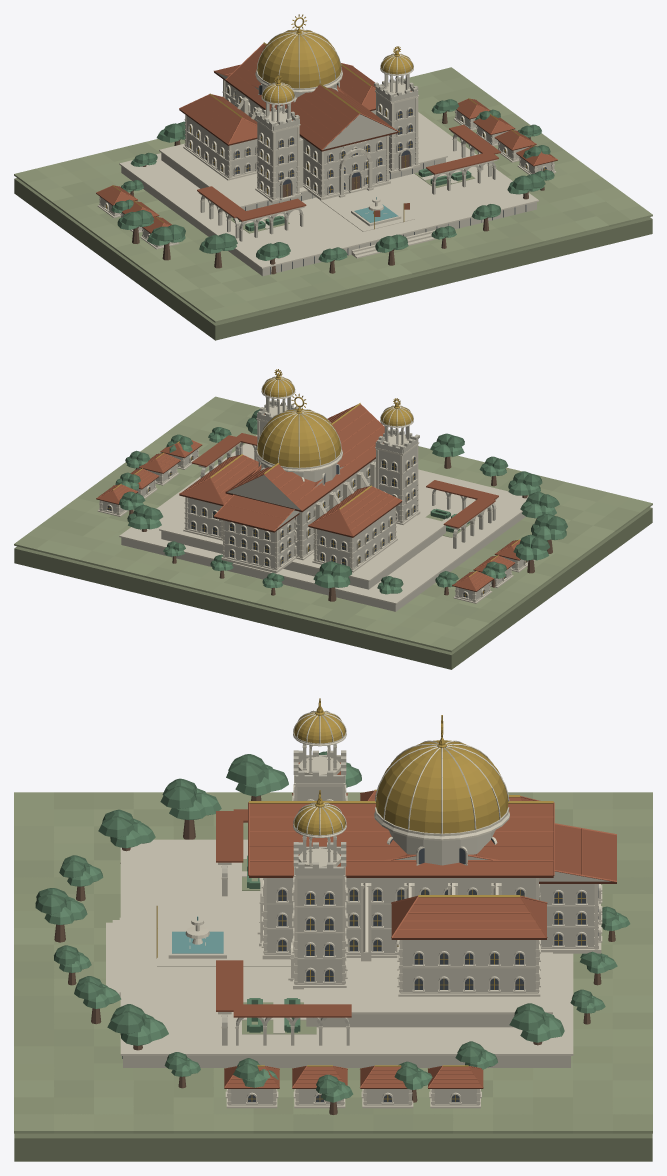
The model's file is basilica.glb.
3 views of the same model, one above another, from view 1: azimuth 30°, elevation 25°; view 2: azimuth 150°, elevation 25°; view 3: azimuth 270°, elevation 25° (orthographic). The views are drawn at different scales.
Parts seen in each view (by area): view 1: site, plinth, nave-roof, landscape, nave, dome-roof, west-campanile, east-campanile, cloisters, landscape-roof, cloisters-roof, east-campanile-roof (+2 smaller); view 2: site, plinth, nave-roof, landscape, nave, dome-roof, west-campanile, landscape-roof, cloisters-roof, cloisters, west-campanile-roof, east-campanile-roof (+2 smaller); view 3: site, plinth, nave-roof, landscape, nave, dome-roof, east-campanile, cloisters-roof, landscape-roof, cloisters, east-campanile-roof, west-campanile-roof (+3 smaller).
Part boxes in pixels (x1,y1,x2,y2): site: (14, 67, 652, 340); plinth: (119, 112, 538, 276); nave-roof: (179, 42, 398, 151); landscape: (97, 99, 556, 274); nave: (183, 79, 390, 200); dome-roof: (255, 28, 342, 92); west-campanile: (255, 103, 301, 202); east-campanile: (375, 73, 420, 173); cloisters: (198, 131, 497, 241); landscape-roof: (96, 98, 557, 233); cloisters-roof: (197, 124, 500, 221); east-campanile-roof: (374, 49, 418, 101); site: (14, 396, 652, 669); plinth: (119, 435, 528, 611); nave-roof: (179, 403, 402, 537); landscape: (97, 409, 567, 603); nave: (183, 459, 397, 573); dome-roof: (255, 407, 342, 472); west-campanile: (375, 425, 420, 524); landscape-roof: (96, 440, 520, 591); cloisters-roof: (191, 433, 498, 528); cloisters: (198, 442, 497, 548); west-campanile-roof: (375, 401, 419, 453); east-campanile-roof: (257, 372, 301, 421); site: (14, 792, 652, 1161); plinth: (106, 839, 573, 1067); nave-roof: (248, 795, 616, 939); landscape: (35, 751, 630, 1114); nave: (257, 878, 602, 996); dome-roof: (374, 738, 509, 840); east-campanile: (288, 835, 347, 989); cloisters-roof: (216, 809, 351, 1017); landscape-roof: (224, 789, 483, 1088); cloisters: (218, 822, 349, 1045); east-campanile-roof: (293, 798, 346, 875); west-campanile-roof: (293, 706, 346, 783).
Size of the model in its own units: 59.01 by 22.43 by 47.06.
